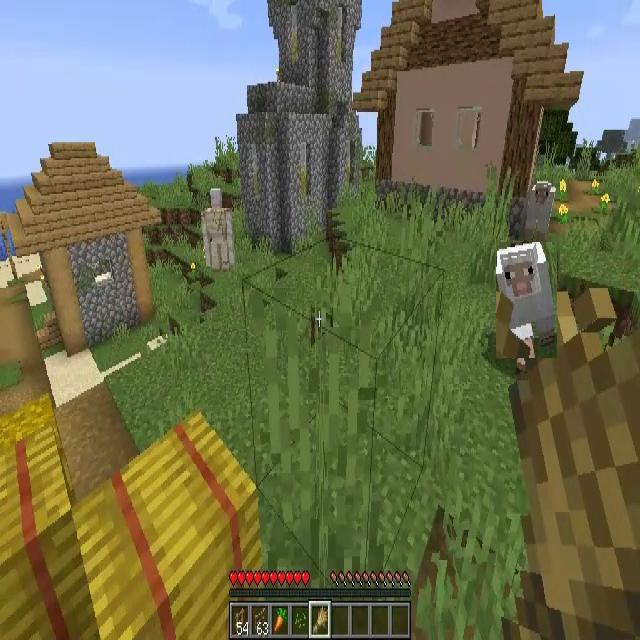flower: (558, 204, 568, 222), (600, 194, 609, 214), (592, 178, 600, 194), (559, 181, 567, 194)
people: (202, 188, 235, 270)
sheep: (496, 242, 557, 358), (526, 180, 554, 243)
